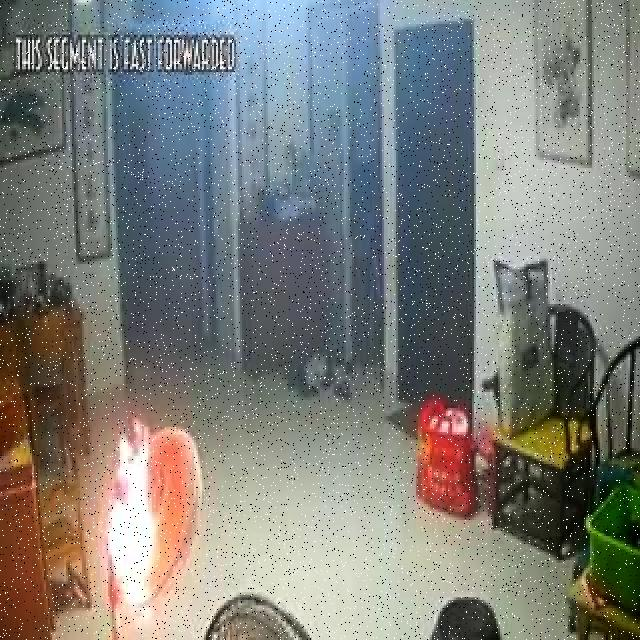fire: (113, 448, 154, 612)
